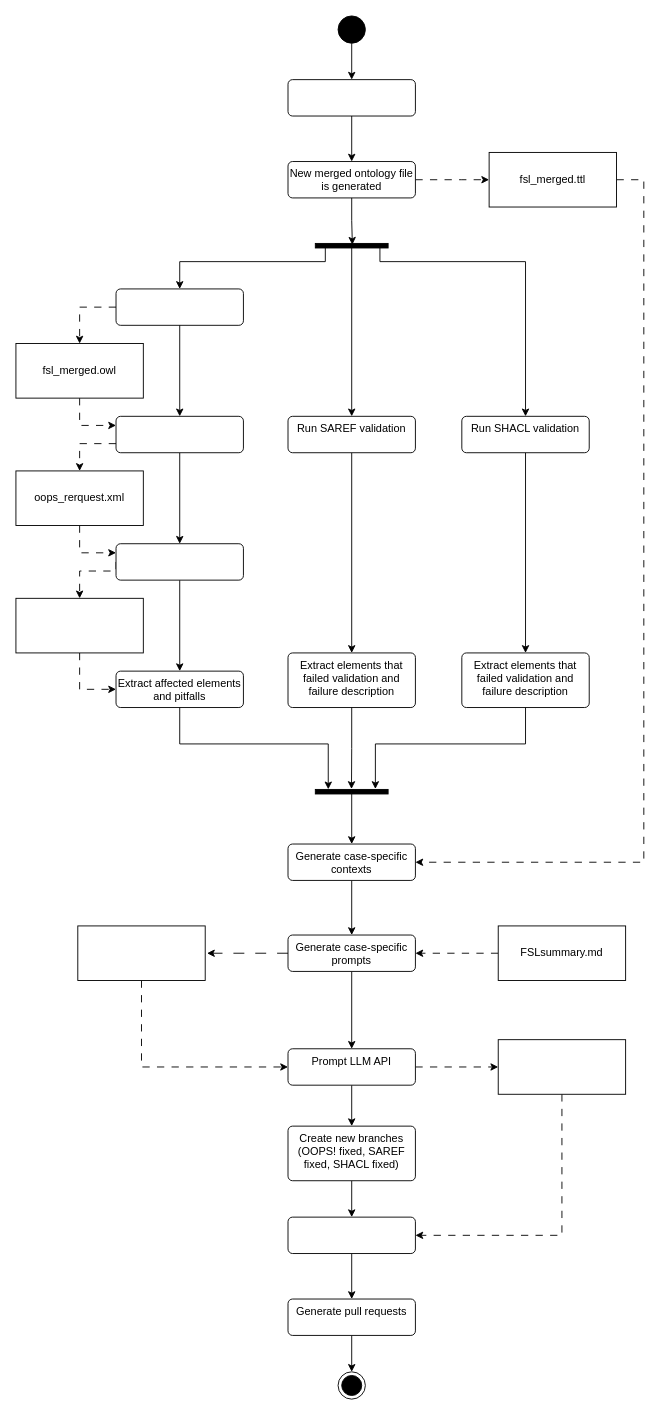
Image size: 667x1415. Some labels were removed from this diagram. The shapes that lost their labels are listed below. From the top down, each one's box as (x1, y1, x2, y2) in pixels, then its label:
(287, 79, 415, 116): Ontology module is updated
(115, 288, 243, 325): Merged ontology file is converted to OWL format
(115, 415, 243, 453): Generate OOPS! XML file
(115, 543, 243, 580): Send request to OOPS! API
(15, 597, 143, 653): oops_response.xml
(77, 925, 205, 981): batch.jsonl
(497, 1039, 626, 1094): batch_response.jsonl
(287, 1216, 415, 1254): Run case-specific fixing script
